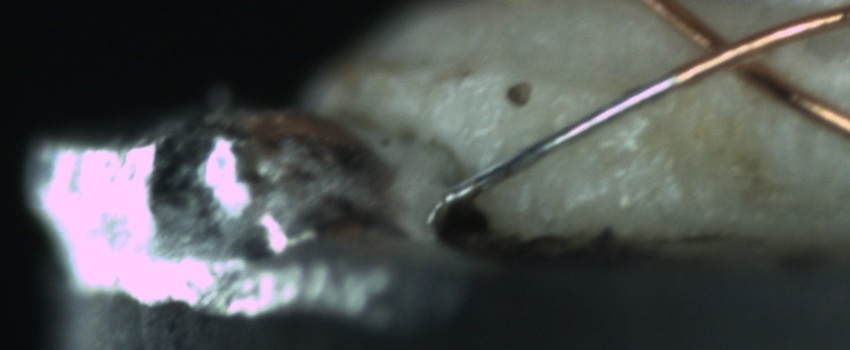CL: (676, 13, 781, 85)
TS: (442, 73, 677, 211)
